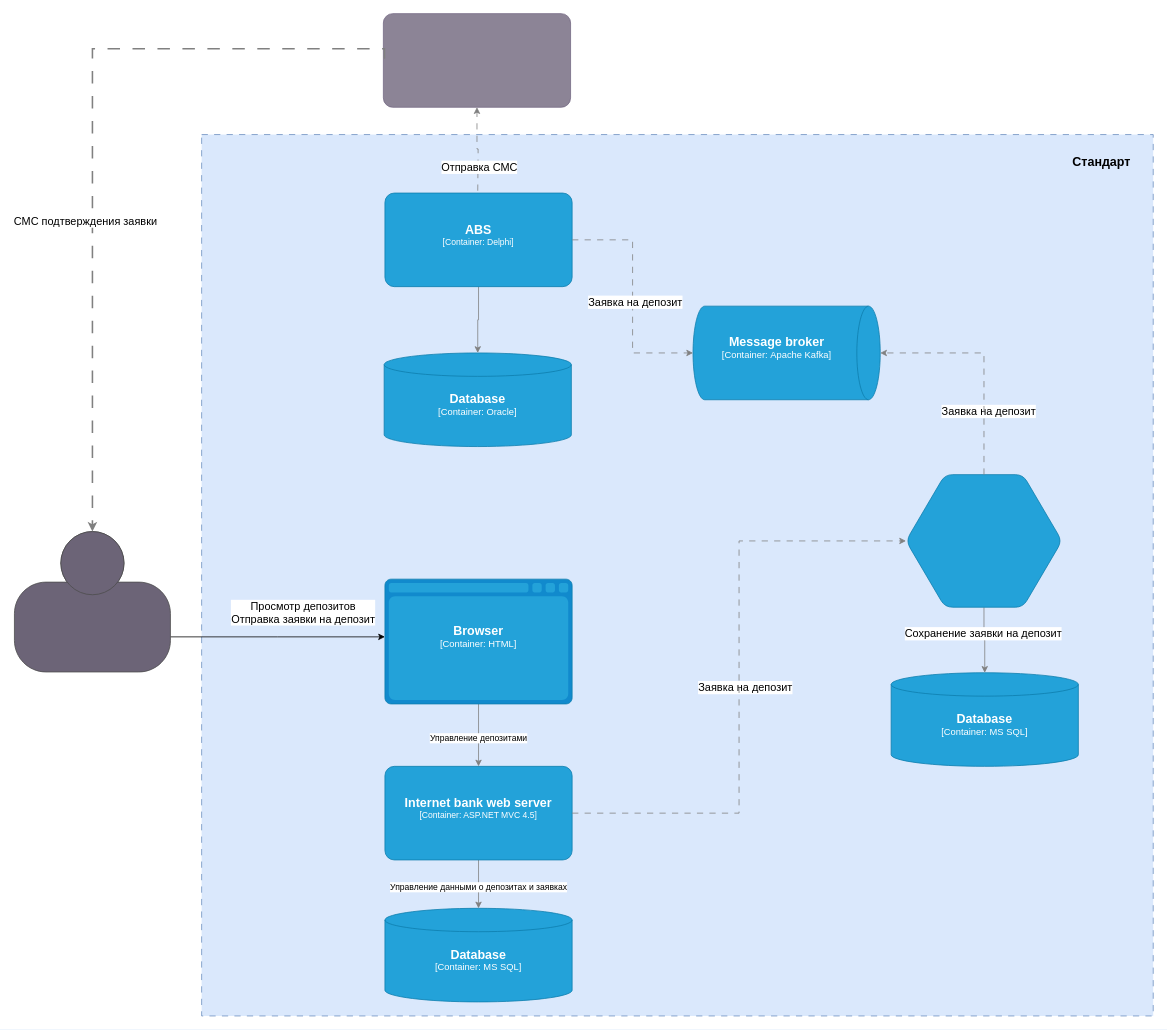
This 1167x1030 diagram has some shape labels left out. Each missing label, with the box of its shape:
Client [Person]: (14, 531, 170, 672)
Deposit Service [Container: .NET Core]: (905, 474, 1062, 607)
Telecom operator [Software System]: (383, 13, 571, 107)
